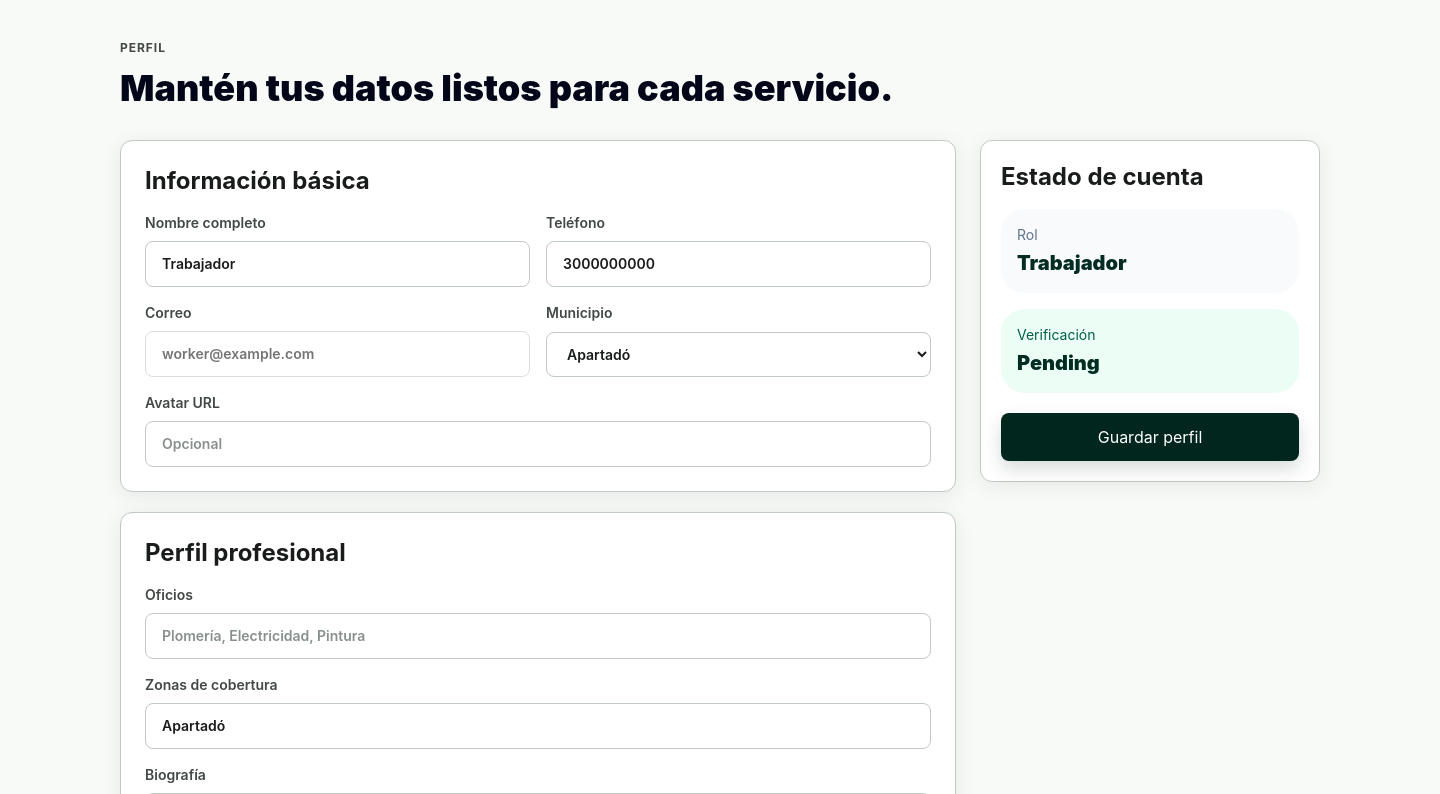
Test: ProfileForm › keeps core success accessible when notification delivery fails
Step 1. Click the button "Guardar perfil" → (1150, 437), box [1001,413,1299,461]
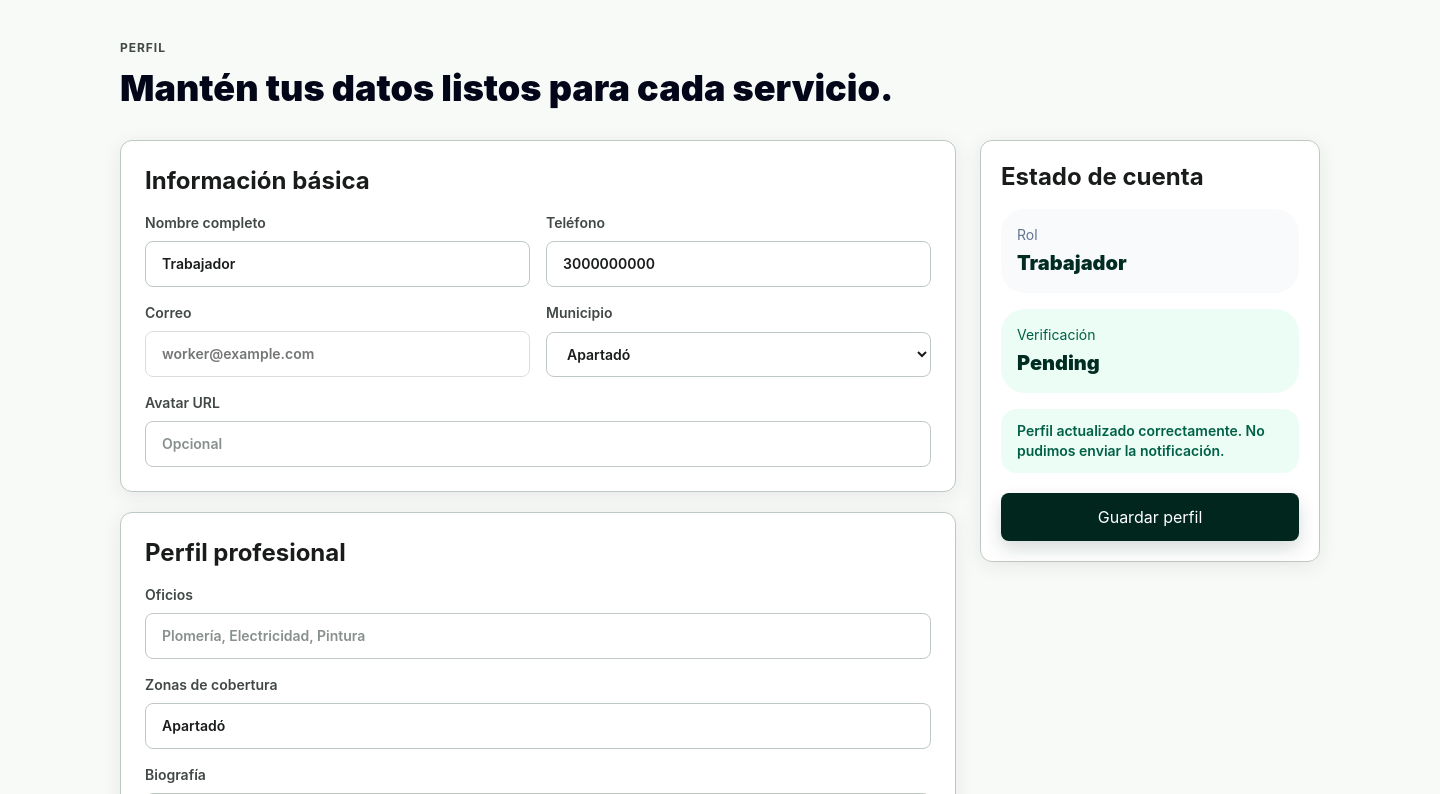
Expected: the message shows "No pudimos enviar la notificación.", [1017,422,1265,459]
